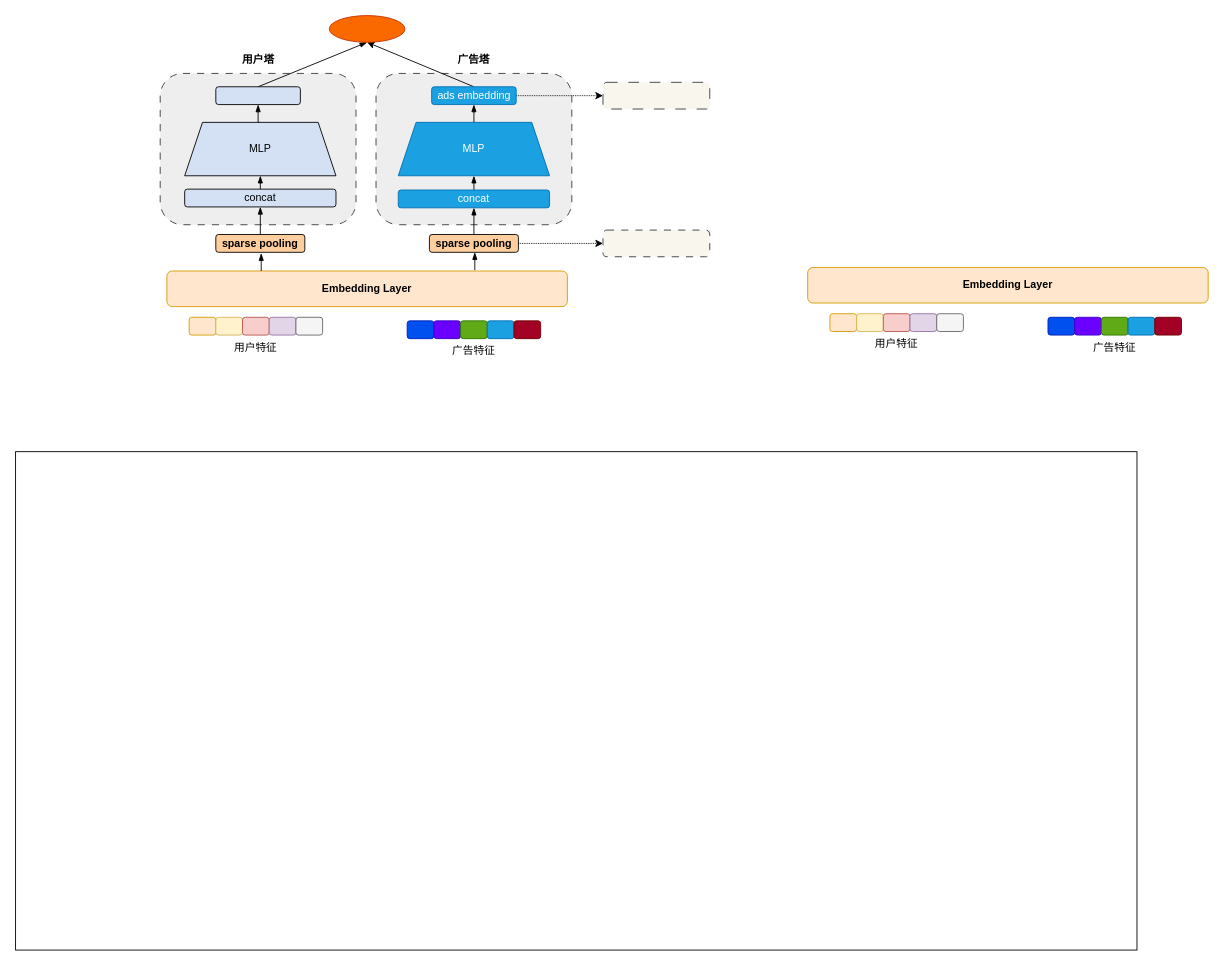
This 1224x966 diagram has some shape labels left out. Here are the shapes that lost their labels. From the top down, the box of each, then its label:
(328, 15, 405, 42): Cosine
(215, 86, 300, 105): user embedding
(602, 81, 710, 109): Ad Output Signature
(602, 229, 710, 257): Ad Input Signature
